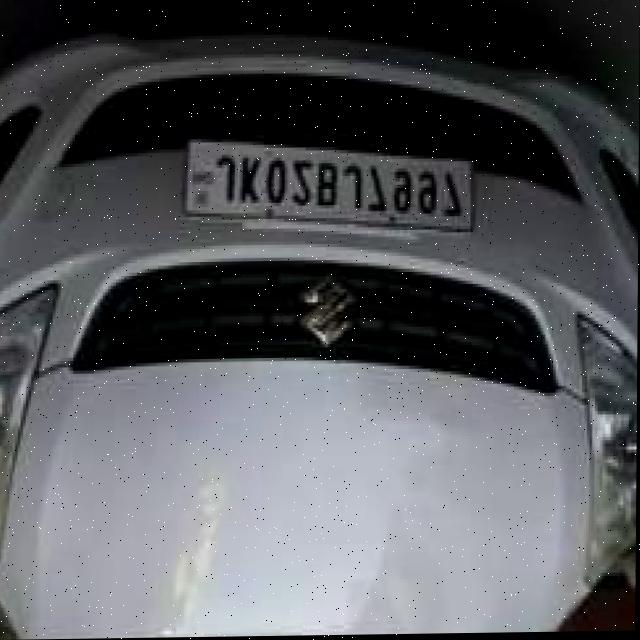plate: (180, 137, 474, 240)
